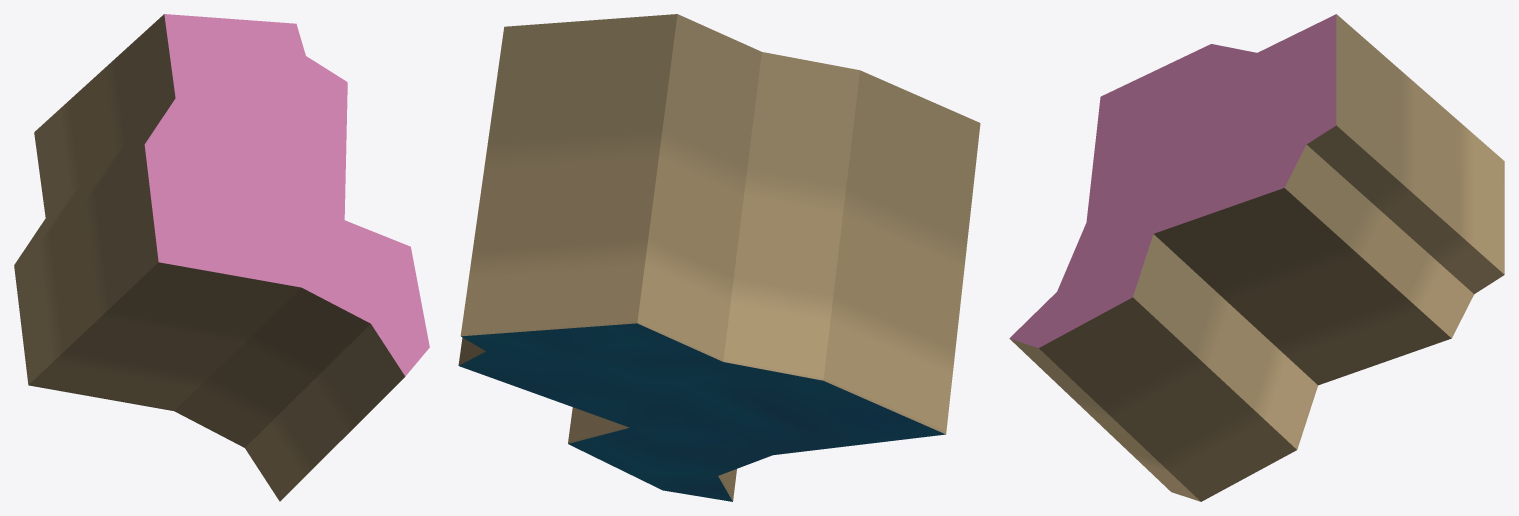
The model's file is 068e_Serbia_and_Montenegro.glb.
3 renders of one model, left to right at view 1: azimuth 30°, elevation 25°; view 2: azimuth 150°, elevation 25°; view 3: azimuth 270°, elevation 25°, orthographic. The views are drawn at different scales.
Parts seen in each view (by area): view 1: part_0; view 2: part_0; view 3: part_0.
Boxes of the visible parts, x1,y1,x2,y2 form: part_0: (14,14,429,501); part_0: (458,14,980,501); part_0: (1009,14,1504,501).
Size of the model in its own units: 0.3044 by 0.3882 by 0.3795.
Materials: 1 (1 with a texture image).
